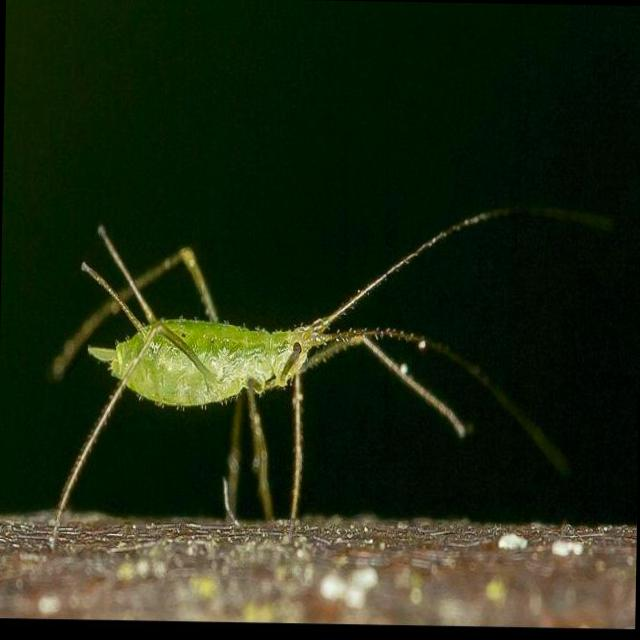aphid: (38, 178, 558, 535)
